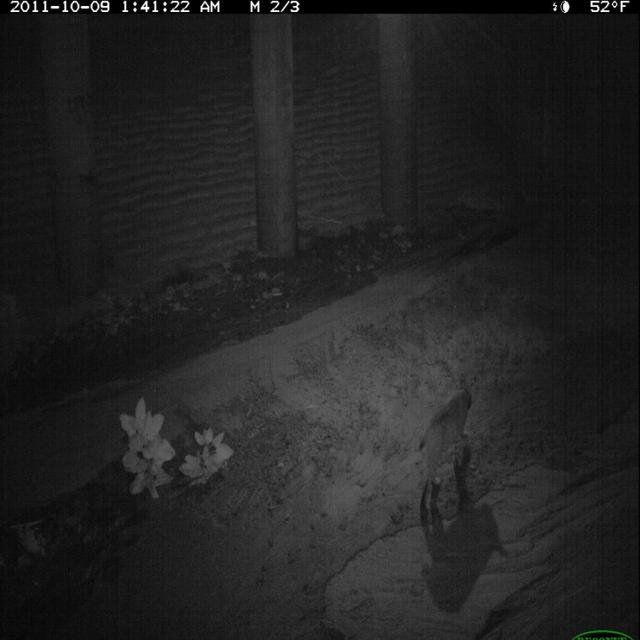bobcat: (415, 373, 481, 494)
